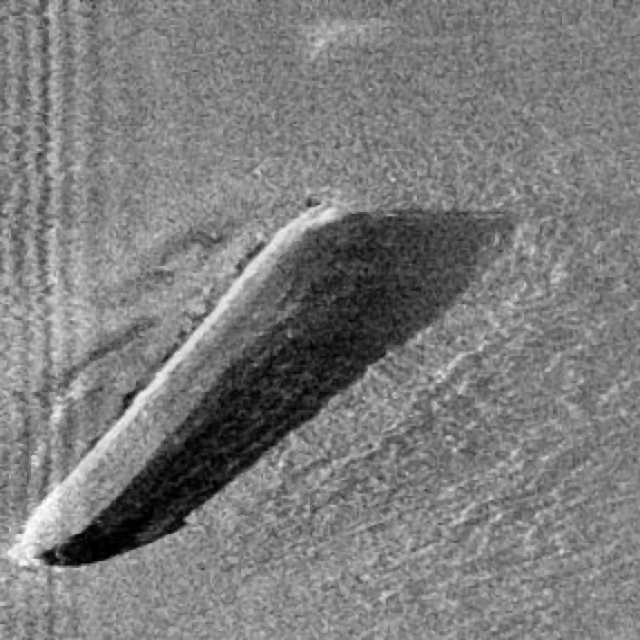Ship: (14, 187, 376, 585)
